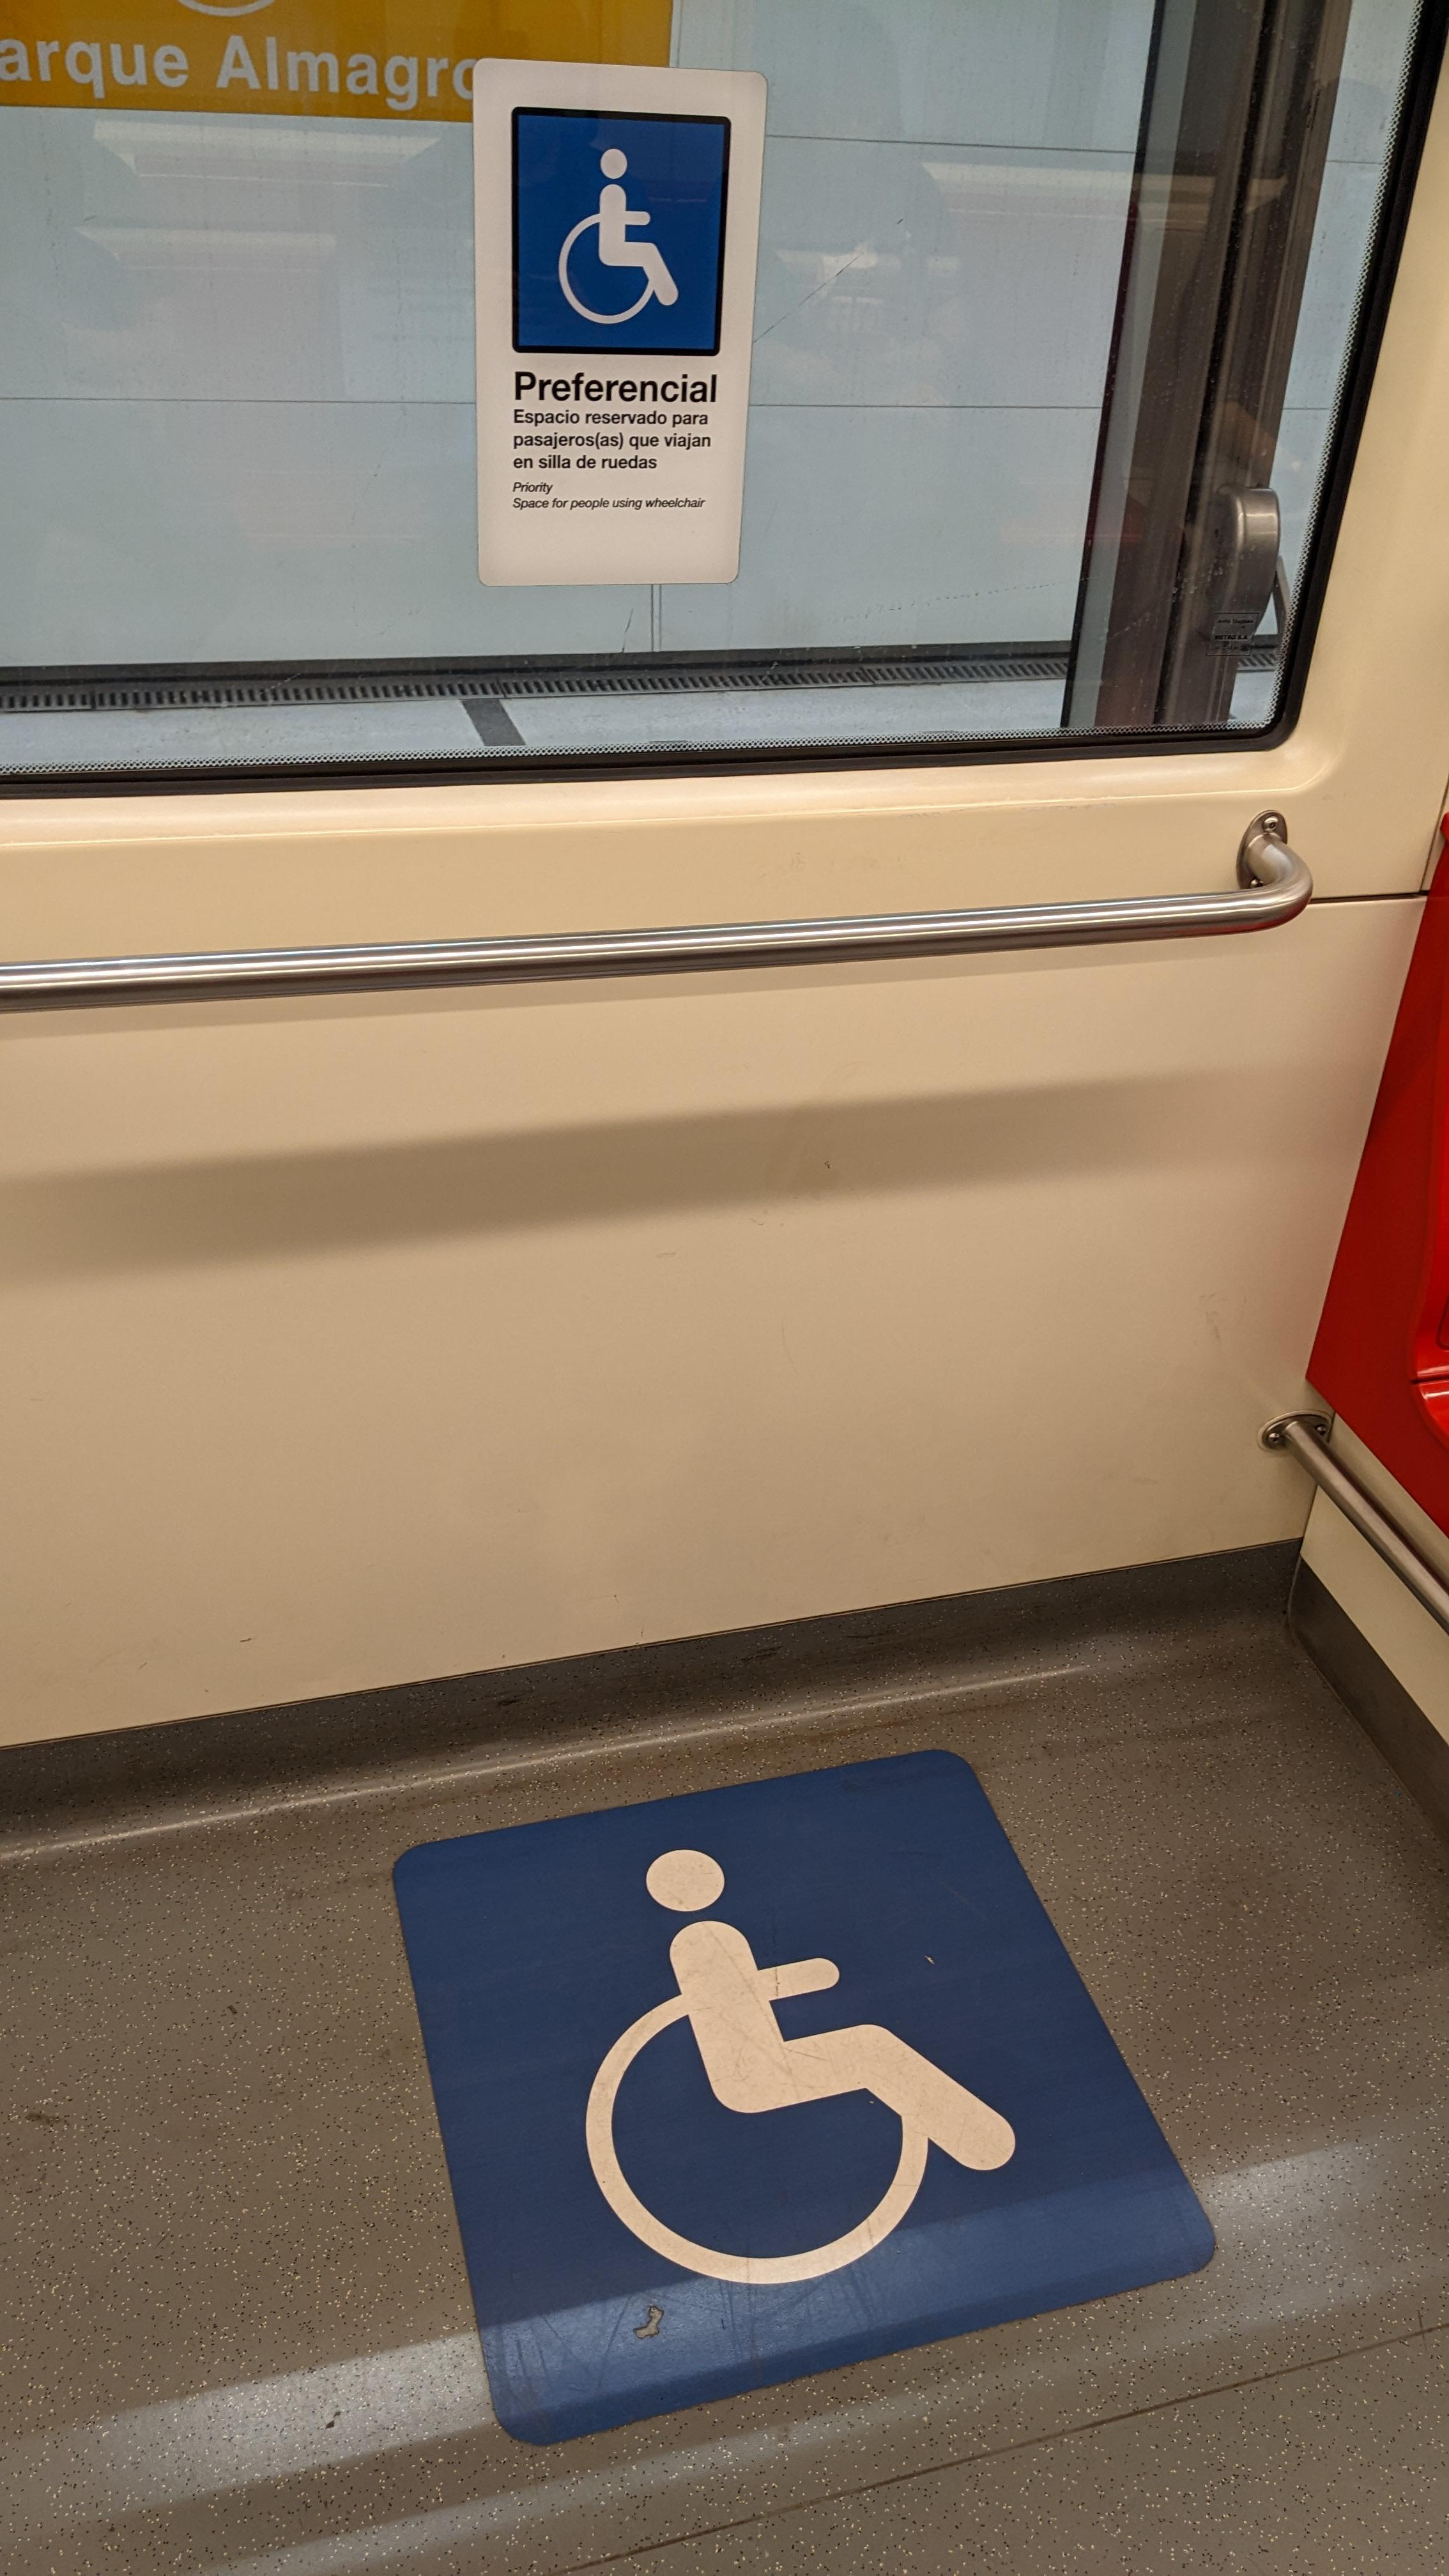handicapped symbol: (580, 1842, 1024, 2291), (556, 143, 685, 329)
